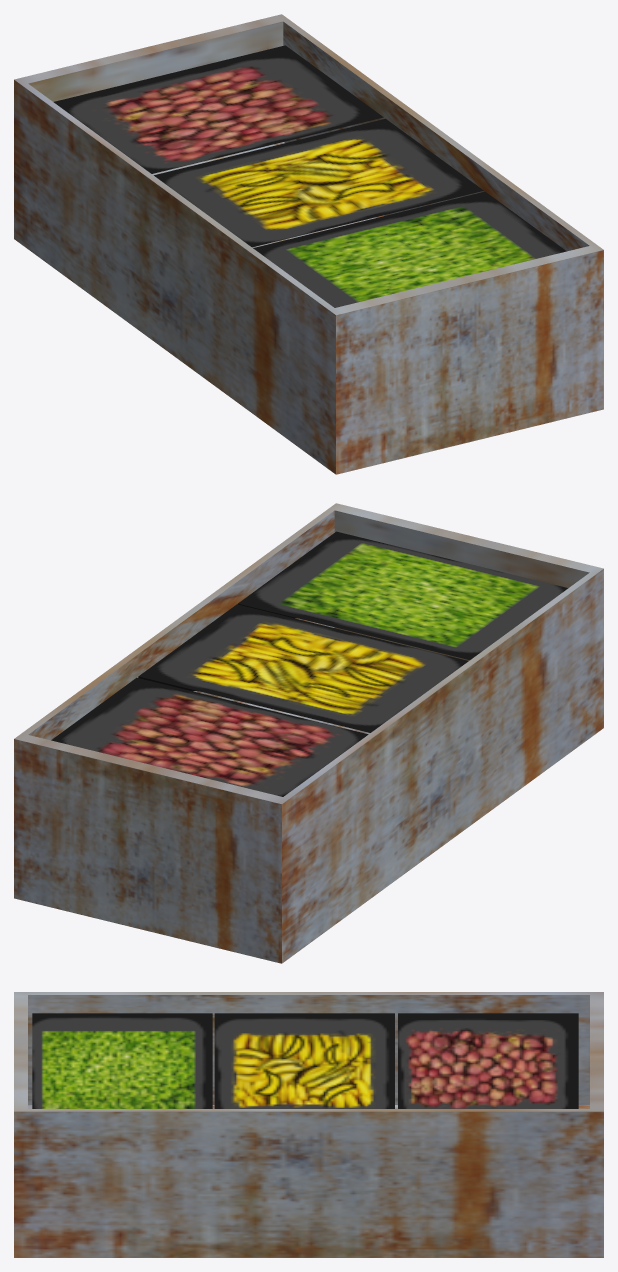
The model's file is baclegume.fbx.
The picture shows the model from 3 angles, top to bottom: view 1: azimuth 30°, elevation 25°; view 2: azimuth 150°, elevation 25°; view 3: azimuth 270°, elevation 25°; orthographic projection. The views are drawn at different scales.
Parts seen in each view (by area): view 1: bacstructure, fruit_box3, fruit_box2, fruit_box1; view 2: bacstructure, fruit_box2, fruit_box1, fruit_box3; view 3: bacstructure, fruit_box1, fruit_box2, fruit_box3.
Part boxes in pixels (<box>): bacstructure: <box>14,14,603,474</box>; fruit_box3: <box>53,45,383,173</box>; fruit_box2: <box>154,118,483,247</box>; fruit_box1: <box>253,191,566,307</box>; bacstructure: <box>14,503,603,963</box>; fruit_box2: <box>138,604,468,732</box>; fruit_box1: <box>237,531,568,660</box>; fruit_box3: <box>51,677,368,796</box>; bacstructure: <box>14,992,603,1257</box>; fruit_box1: <box>32,1013,212,1108</box>; fruit_box2: <box>214,1013,394,1108</box>; fruit_box3: <box>398,1013,578,1108</box>.
Bounding box in the file's own units: 7.84 × 4.46 × 16.33.
4 materials, 4 textured.
